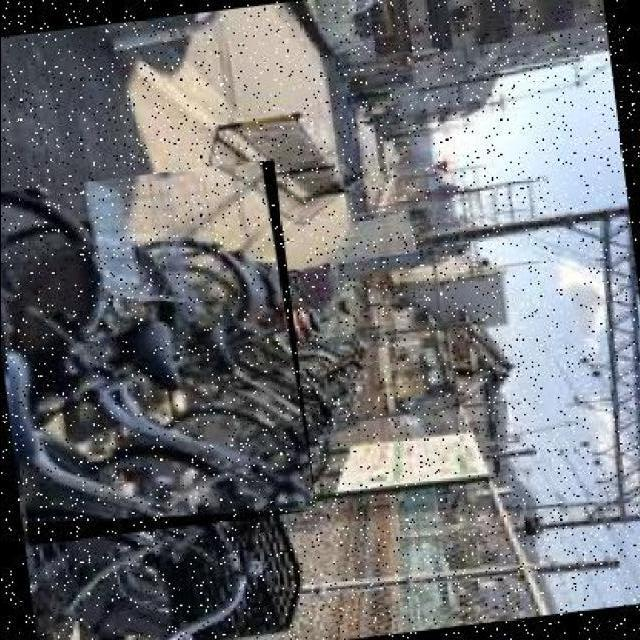bicycle: (2, 158, 318, 547)
